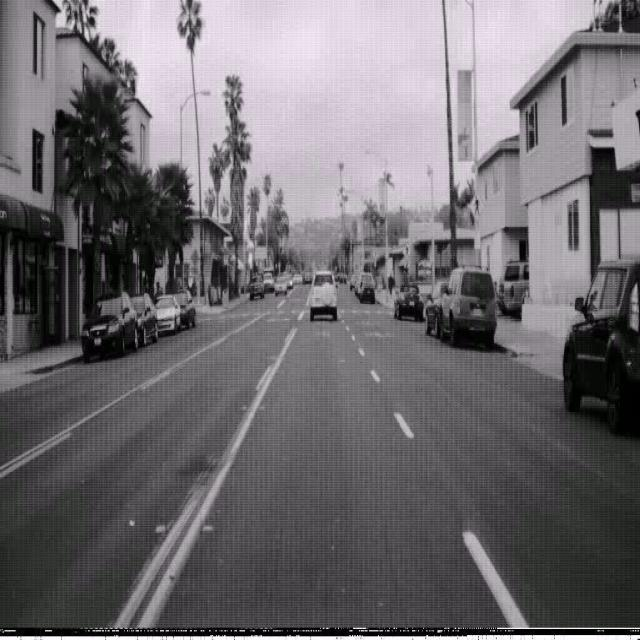pedestrianCrossing: (467, 189, 485, 223)
